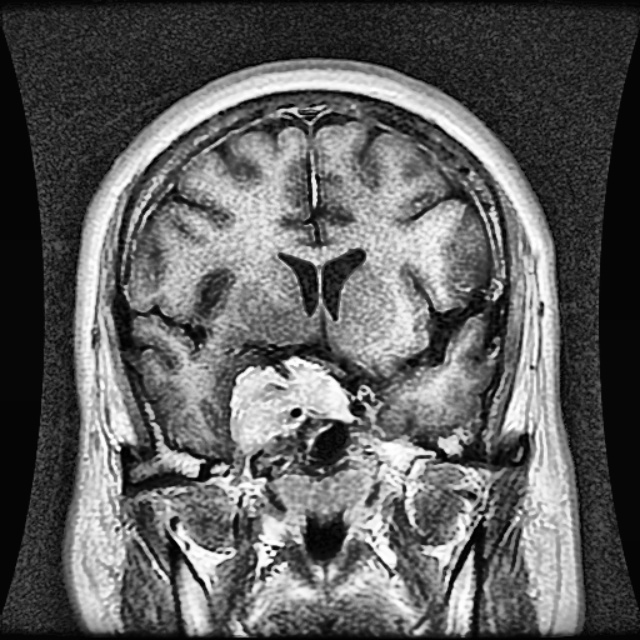Glioma: (228, 354, 357, 453)
